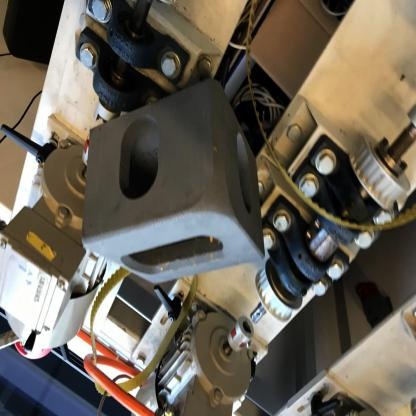CornerCasting: (81, 76, 267, 286)
